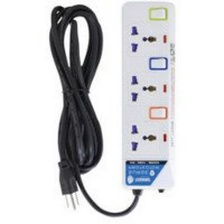three_eye_plug: (117, 0, 179, 191)
